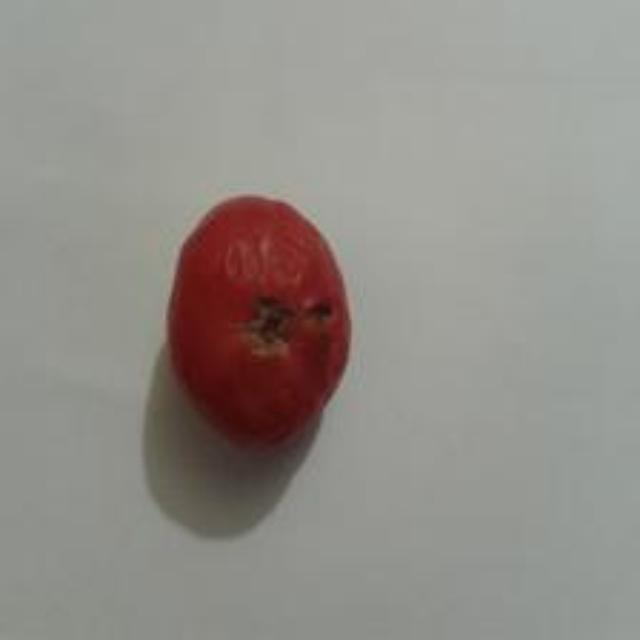defect: (159, 195, 357, 451)
